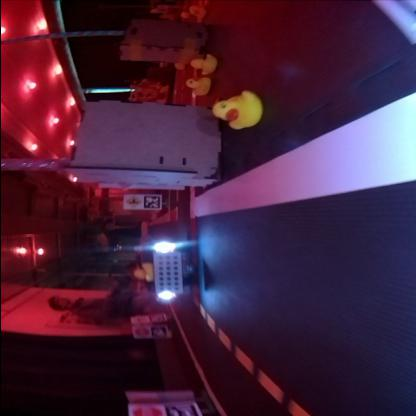Duckie: (214, 92, 261, 130), (189, 54, 214, 74), (184, 78, 208, 96), (132, 263, 152, 282)
Duckiebot: (142, 244, 192, 300)
Intersection sign: (124, 196, 140, 208)
QR code: (142, 197, 158, 209), (150, 328, 164, 338)
